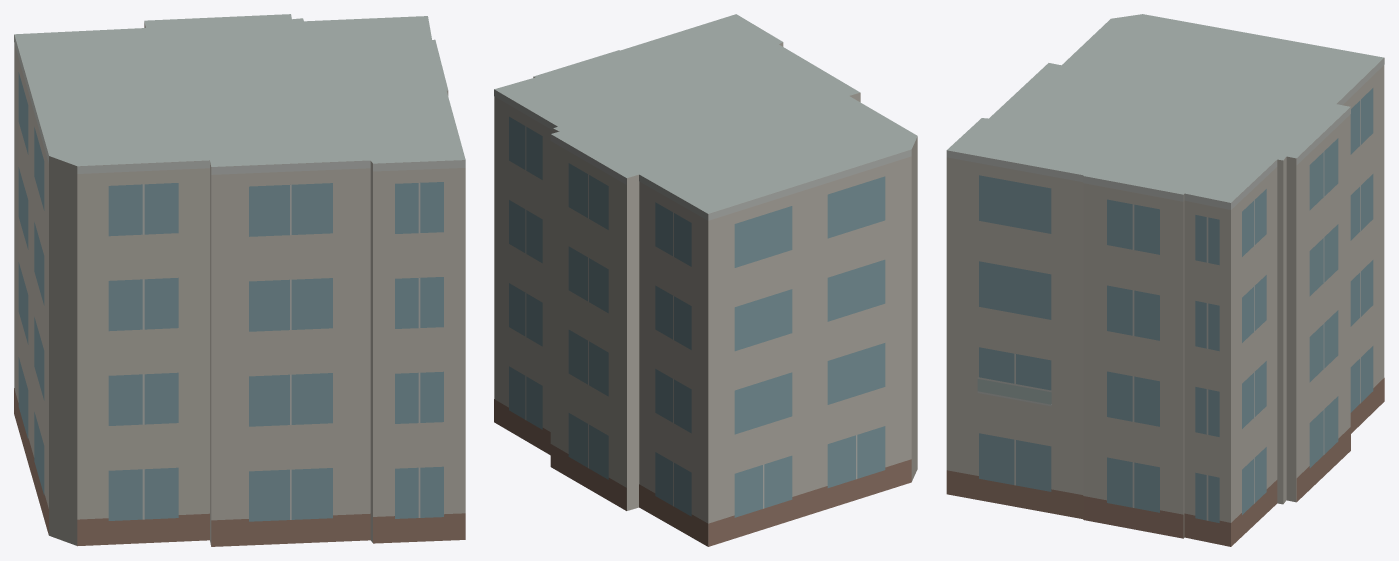
Rendered from survey-upis-32670124.glb.
3 renders of one model, left to right at view 1: azimuth 30°, elevation 25°; view 2: azimuth 150°, elevation 25°; view 3: azimuth 270°, elevation 25°, orthographic. The views are drawn at different scales.
Visible parts, largest first — view 1: survey-upis-32670124.tmp; view 2: survey-upis-32670124.tmp; view 3: survey-upis-32670124.tmp.
Part boxes in pixels (left/top/right/bottom): survey-upis-32670124.tmp: left=14, top=14, right=465, bottom=546; survey-upis-32670124.tmp: left=494, top=14, right=917, bottom=546; survey-upis-32670124.tmp: left=946, top=14, right=1384, bottom=546.
Size of the model in its own units: 13.91 by 11.8 by 13.62.
